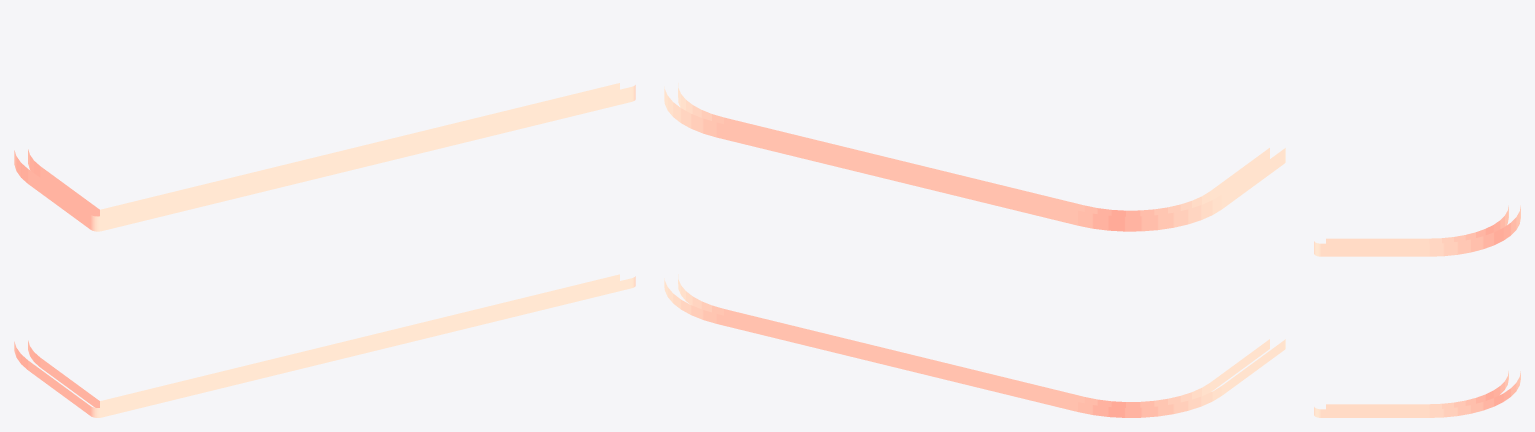
Rendered from strip_no.glb.
The picture shows the model from 3 angles, left to right: view 1: azimuth 30°, elevation 25°; view 2: azimuth 150°, elevation 25°; view 3: azimuth 270°, elevation 25°; orthographic projection. The views are drawn at different scales.
Parts seen in each view (by area): view 1: strip; view 2: strip; view 3: strip.
Boxes of the visible parts, left/top/right/bottom form: strip: left=14, top=83, right=635, bottom=417; strip: left=664, top=83, right=1285, bottom=417; strip: left=1314, top=205, right=1520, bottom=417.
Bounding box in the file's own units: 2.26 × 0.8 × 0.86.
